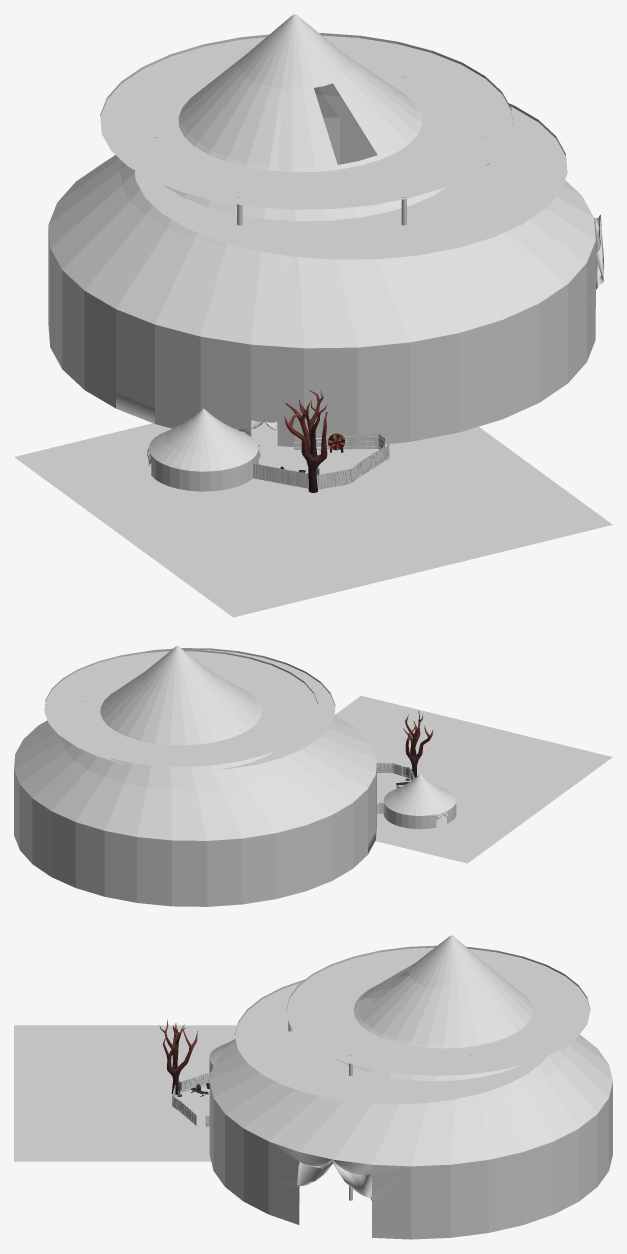
The model's file is circus_layout_updated.glb.
The picture shows the model from 3 angles, top to bottom: view 1: azimuth 30°, elevation 25°; view 2: azimuth 150°, elevation 25°; view 3: azimuth 270°, elevation 25°; orthographic projection. The views are drawn at different scales.
Visible parts, largest first — view 1: Шатер - главный, Plane, Шатер - главный (подмостки, Шатер - главный (подмостки.001, Шатер - гримерка, DeadTree2, Plank.005; view 2: Шатер - главный, Plane, Шатер - главный (подмостки, Шатер - гримерка, Шатер - главный (подмостки.001, DeadTree2; view 3: Шатер - главный, Plane, Шатер - главный (подмостки, Шатер - главный (подмостки.001, DeadTree2.
Boxes of the visible parts, left/top/right/bottom form: Шатер - главный: left=48, top=14, right=604, bottom=446; Plane: left=14, top=422, right=612, bottom=617; Шатер - главный (подмостки: left=100, top=33, right=512, bottom=209; Шатер - главный (подмостки.001: left=135, top=103, right=567, bottom=259; Шатер - гримерка: left=146, top=408, right=260, bottom=491; DeadTree2: left=284, top=390, right=327, bottom=492; Plank.005: left=253, top=463, right=308, bottom=488; Шатер - главный: left=14, top=646, right=376, bottom=906; Plane: left=335, top=695, right=612, bottom=863; Шатер - главный (подмостки: left=44, top=649, right=318, bottom=766; Шатер - гримерка: left=383, top=774, right=456, bottom=829; Шатер - главный (подмостки.001: left=74, top=648, right=335, bottom=770; DeadTree2: left=403, top=711, right=433, bottom=779; Шатер - главный: left=209, top=935, right=612, bottom=1239; Plane: left=14, top=1025, right=237, bottom=1161; Шатер - главный (подмостки: left=286, top=945, right=590, bottom=1075; Шатер - главный (подмостки.001: left=235, top=979, right=545, bottom=1104; DeadTree2: left=159, top=1019, right=197, bottom=1094.
Bounding box in the file's own units: 126 × 60.09 × 149.
16 materials, 9 textured.
